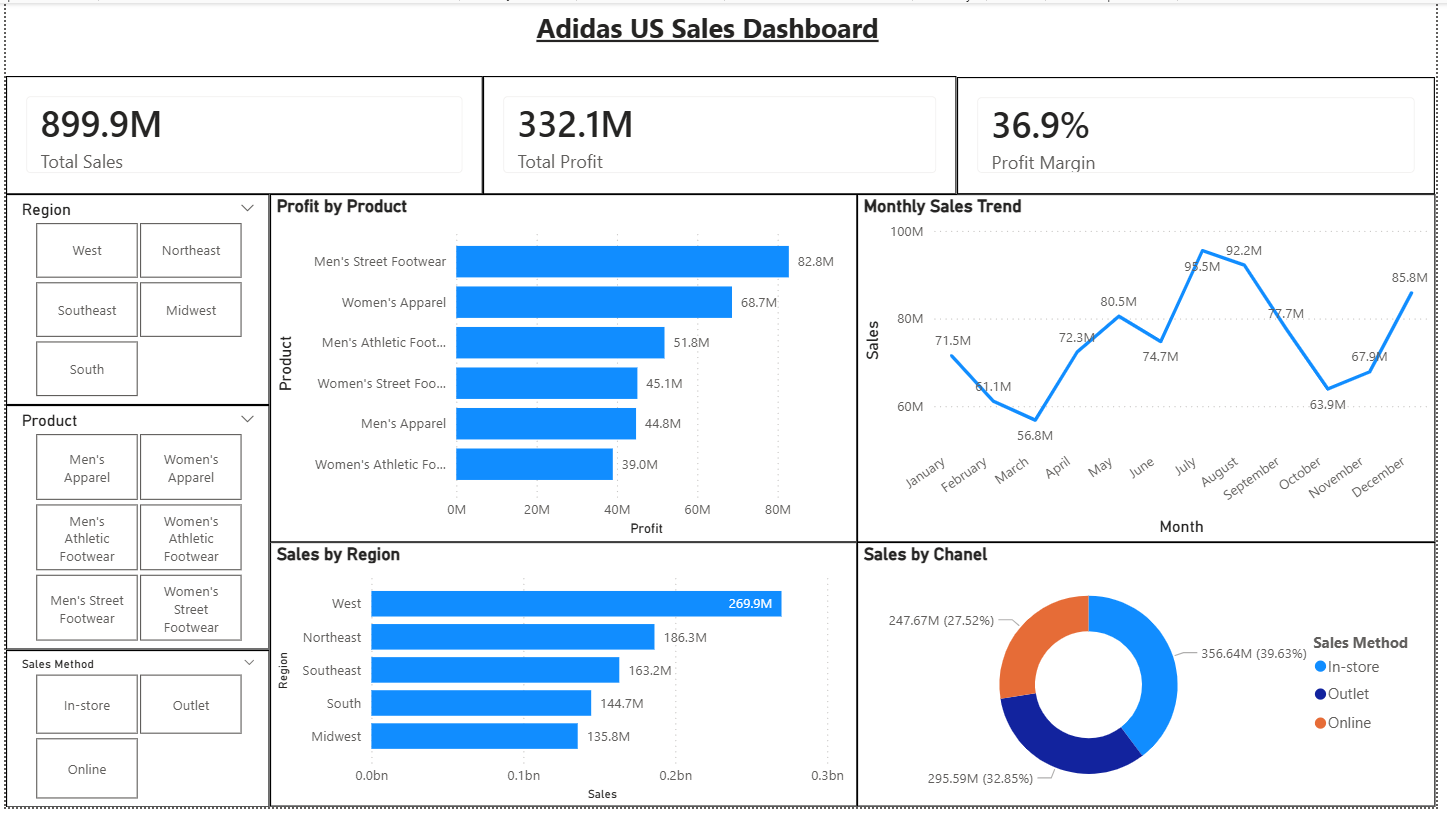

The page's visual inventory and layout, read from the dashboard file:
{"tool":"powerbi","page":{"name":"Page 1","canvas":[1280,720],"ordinal":0},"visuals":[{"type":"cardVisual","fields":{"Data":["Sum(Data Sales Adidas.Total Sales)"]},"box":[0,65.4,427.2,105.7],"z":0},{"type":"cardVisual","fields":{"Data":["Sum(Data Sales Adidas.Operating Profit)"]},"box":[427.2,65.4,424.5,105.7],"z":1000},{"type":"clusteredBarChart","title":"Sales by Region","fields":{"Category":["Data Sales Adidas.Region"],"Y":["Sum(Data Sales Adidas.Total Sales)"]},"box":[236.4,482.7,525.7,237.3],"z":2000},{"type":"clusteredBarChart","title":"Profit by Product","fields":{"Y":["Sum(Data Sales Adidas.Operating Profit)"],"Category":["Data Sales Adidas.Product"]},"box":[236.4,171,525.7,311.6],"z":3000},{"type":"lineChart","title":"Monthly Sales Trend","fields":{"Category":["Data Sales Adidas.Invoice Date.Variation.Date Hierarchy.Month"],"Y":["Sum(Data Sales Adidas.Total Sales)"]},"box":[762.1,171,517.6,311.6],"z":4000},{"type":"donutChart","title":"Sales by Chanel","fields":{"Category":["Data Sales Adidas.Sales Method"],"Y":["Sum(Data Sales Adidas.Total Sales)"]},"box":[762.1,482.7,517.6,237.3],"z":5000},{"type":"slicer","fields":{"Values":["Data Sales Adidas.Region"]},"box":[0,171,236.4,189],"z":6000},{"type":"slicer","fields":{"Values":["Data Sales Adidas.Product"]},"box":[0,360,236.4,219.4],"z":7000},{"type":"slicer","fields":{"Values":["Data Sales Adidas.Sales Method"]},"box":[0,579.4,236.4,140.6],"z":8000},{"type":"cardVisual","fields":{"Data":["Data Sales Adidas.Profit Margin"]},"box":[851.6,66.3,428.1,104.8],"z":8001},{"type":"textbox","box":[310.7,0,634.9,56.4],"z":8002}]}

Visuals, with their boxes in screenshot pixels (x1, y1, x2, y2), scaled from the page's 1280x720 canvas onto the 1447x814 screenshot:
cardVisual - Sum(Data Sales Adidas.Total Sales): 0 74 483 193
cardVisual - Sum(Data Sales Adidas.Operating Profit): 483 74 963 193
"Sales by Region" clusteredBarChart: 267 546 862 813
"Profit by Product" clusteredBarChart: 267 193 862 546
"Monthly Sales Trend" lineChart: 862 193 1446 546
"Sales by Chanel" donutChart: 862 546 1446 813
slicer - Data Sales Adidas.Region: 0 193 267 407
slicer - Data Sales Adidas.Product: 0 407 267 655
slicer - Data Sales Adidas.Sales Method: 0 655 267 813
cardVisual - Data Sales Adidas.Profit Margin: 963 75 1446 193
textbox: 351 0 1069 64
